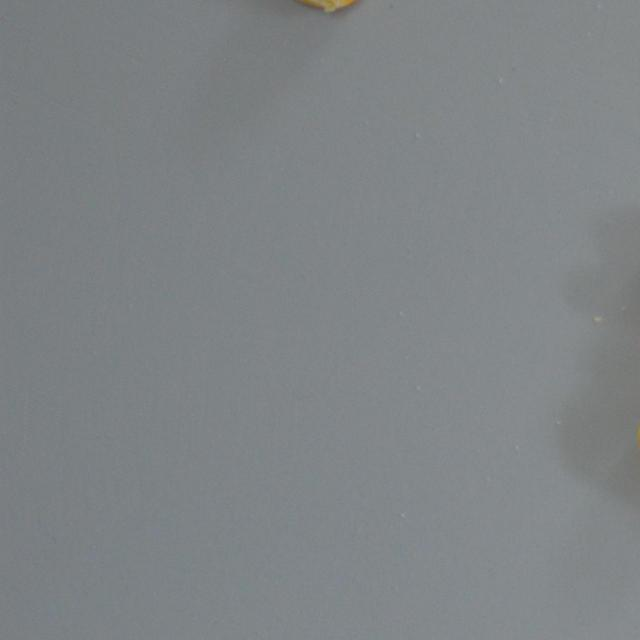pelicula: (272, 0, 369, 10)
